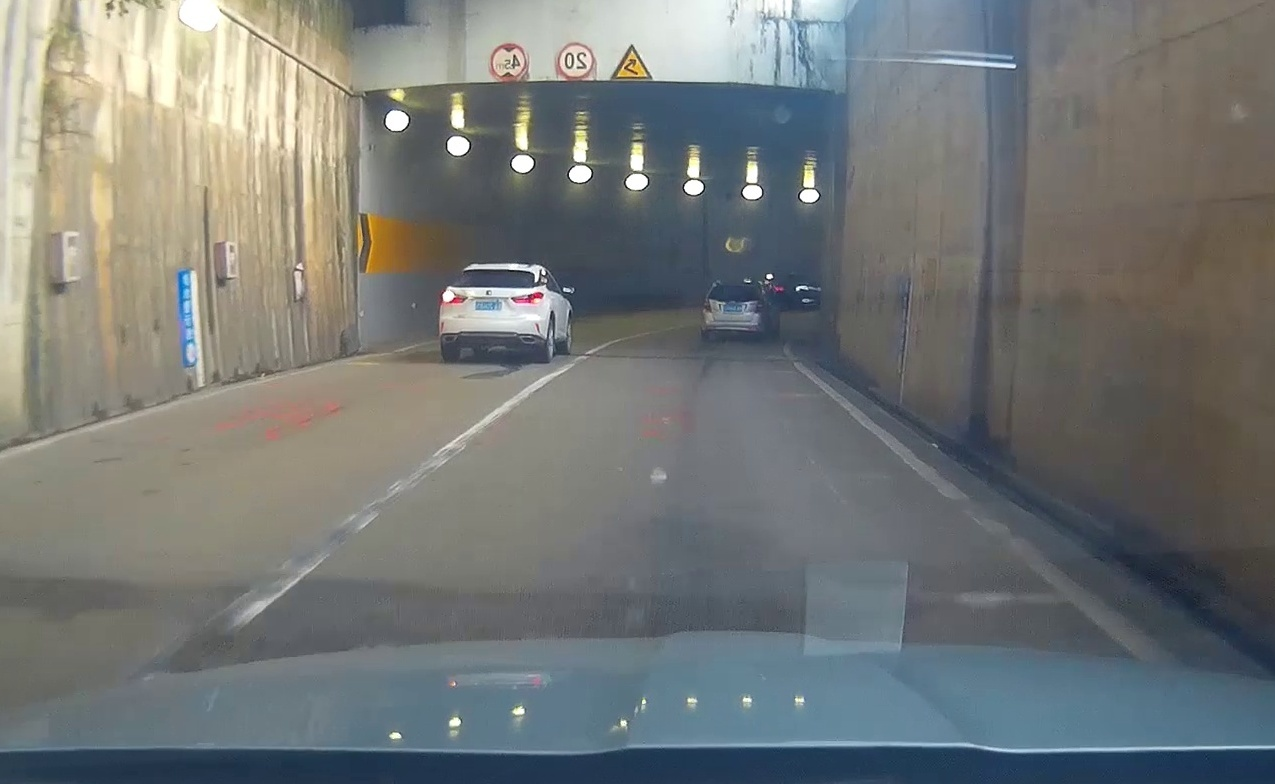L_light: (441, 294, 467, 304), (703, 301, 712, 313)
R_light: (511, 291, 544, 303), (754, 301, 764, 313)
T_light: (489, 270, 502, 273), (732, 285, 741, 287)
day-left: (439, 265, 546, 363)
day-no: (702, 282, 769, 342)
